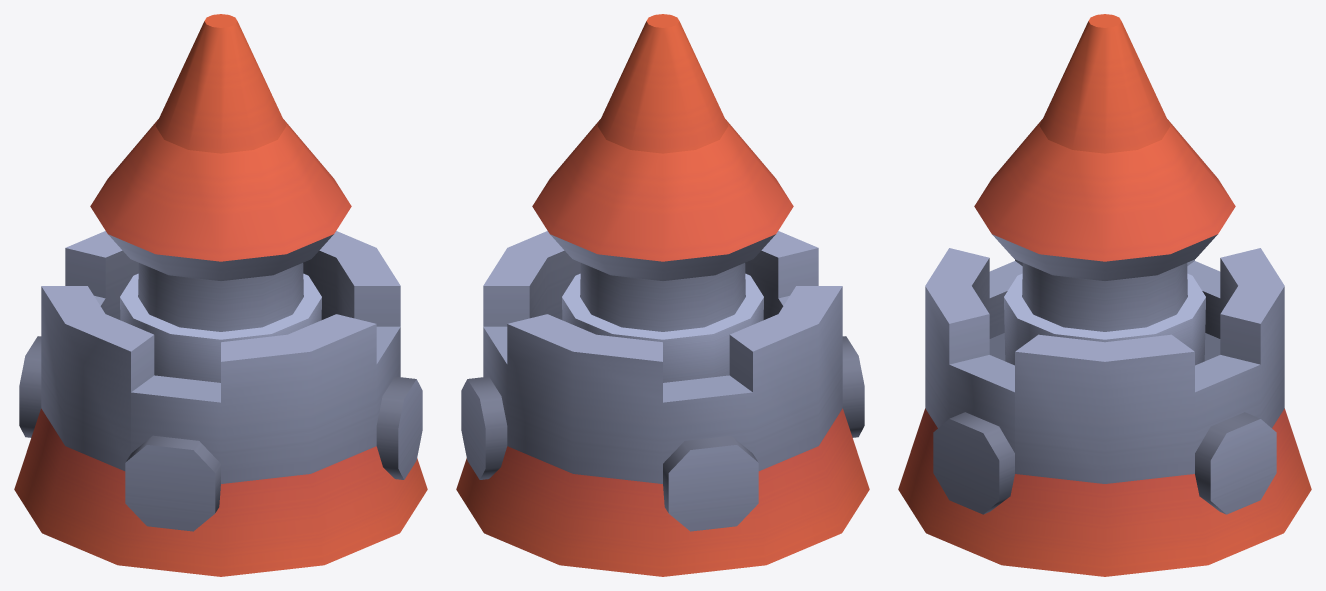
File: tower-round-roof-a.fbx
The picture shows the model from 3 angles, left to right: view 1: azimuth 30°, elevation 25°; view 2: azimuth 150°, elevation 25°; view 3: azimuth 270°, elevation 25°; orthographic projection.
Parts seen in each view (by area): view 1: tower-round-roof-a; view 2: tower-round-roof-a; view 3: tower-round-roof-a.
Boxes of the visible parts, x1,y1,x2,y2 form: tower-round-roof-a: (14,14,427,576); tower-round-roof-a: (456,14,869,576); tower-round-roof-a: (898,14,1311,576).
Size of the model in its own units: 92 by 115 by 92.
